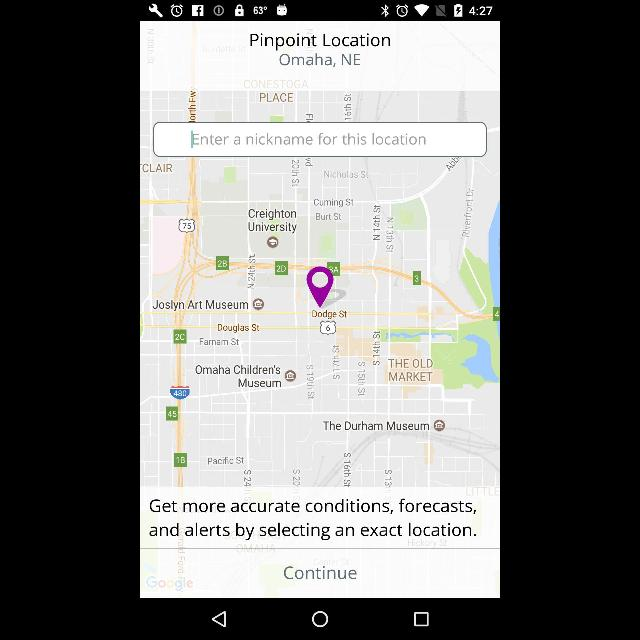icon: (212, 611, 226, 629), (312, 612, 328, 626), (414, 612, 428, 626)
input: (154, 123, 486, 155)
map: (141, 90, 499, 486)
panel: (140, 598, 500, 640)
text: (151, 498, 477, 536), (192, 134, 426, 146), (250, 34, 390, 48), (280, 54, 362, 64)
textbutton: (140, 549, 500, 597)
uppertaskbar: (140, 0, 500, 20)
